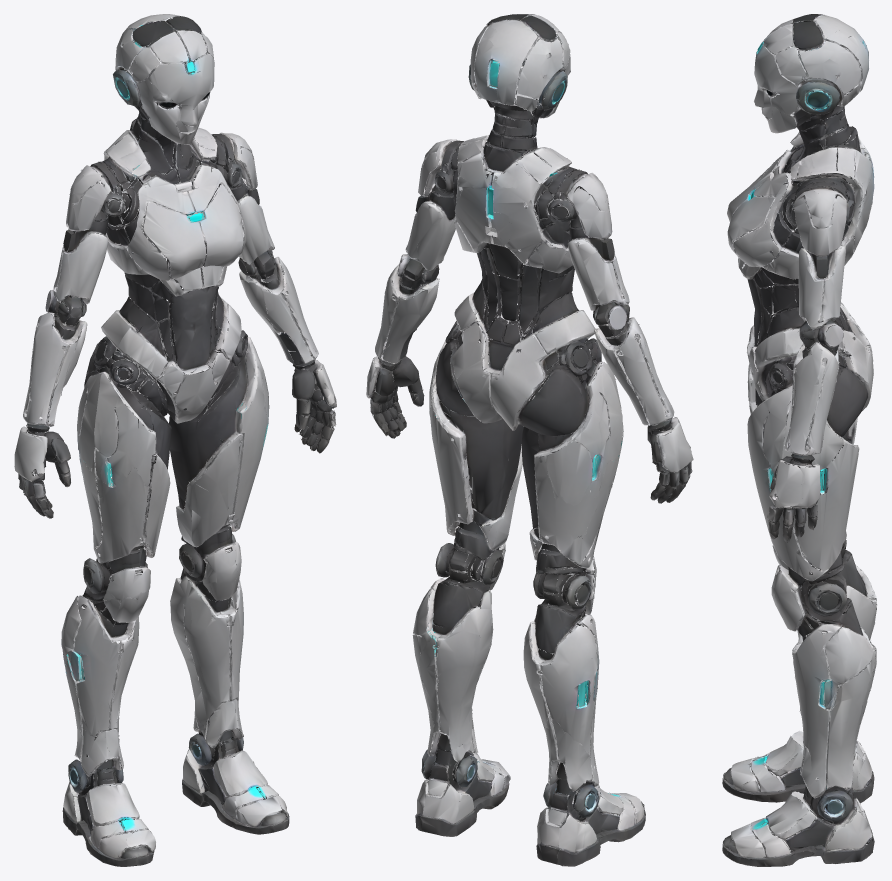
Rendered from android_test_dummy_rigprep.glb.
3 renders of one model, left to right at view 1: azimuth 30°, elevation 25°; view 2: azimuth 150°, elevation 25°; view 3: azimuth 270°, elevation 25°, orthographic.
Visible parts, largest first — view 1: AndroidTestDummy_RigMesh; view 2: AndroidTestDummy_RigMesh; view 3: AndroidTestDummy_RigMesh.
Boxes of the visible parts, x1,y1,x2,y2 form: AndroidTestDummy_RigMesh: (14,14,336,866); AndroidTestDummy_RigMesh: (366,14,693,866); AndroidTestDummy_RigMesh: (722,14,876,866).
Bounding box in the file's own units: 0.6483 × 1.6 × 0.2799.
Materials: 1 (1 with a texture image).
